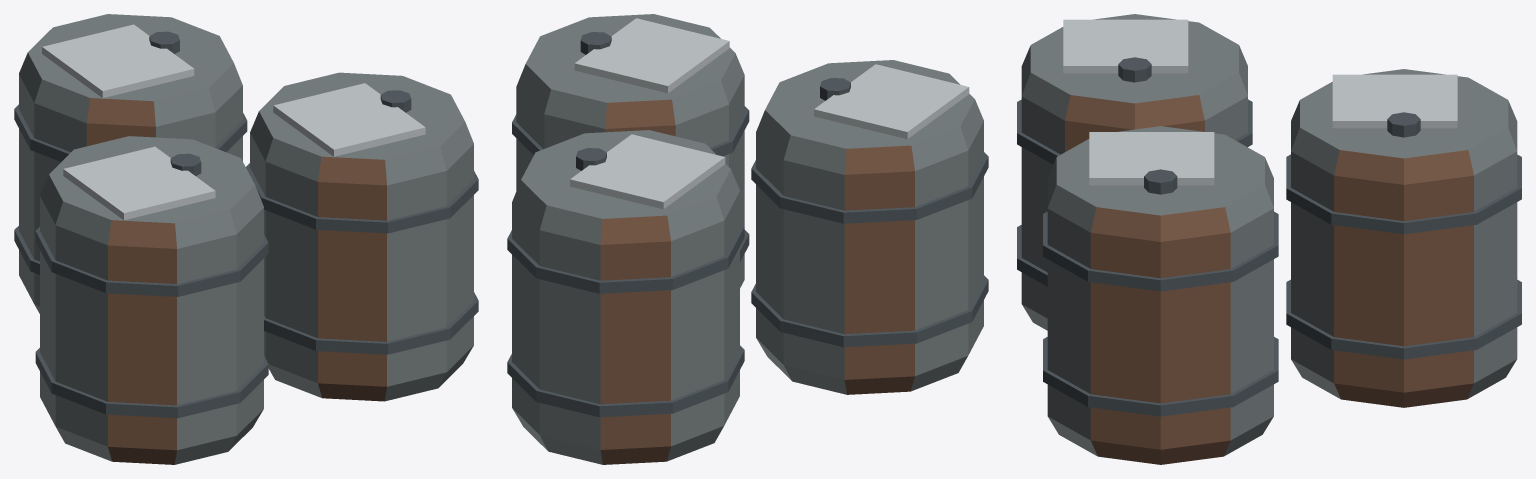
File: fuel_drum_group.glb
3 views of the same model, side by side, from view 1: azimuth 30°, elevation 25°; view 2: azimuth 150°, elevation 25°; view 3: azimuth 270°, elevation 25° (orthographic). The views are drawn at different scales.
Visible parts, largest first — view 1: fuel_drum_group; view 2: fuel_drum_group; view 3: fuel_drum_group.
Boxes of the visible parts, x1,y1,x2,y2 form: fuel_drum_group: [14, 14, 478, 464]; fuel_drum_group: [507, 14, 988, 464]; fuel_drum_group: [1017, 14, 1521, 464].
Size of the model in its own units: 1.92 by 1.1 by 1.92.
